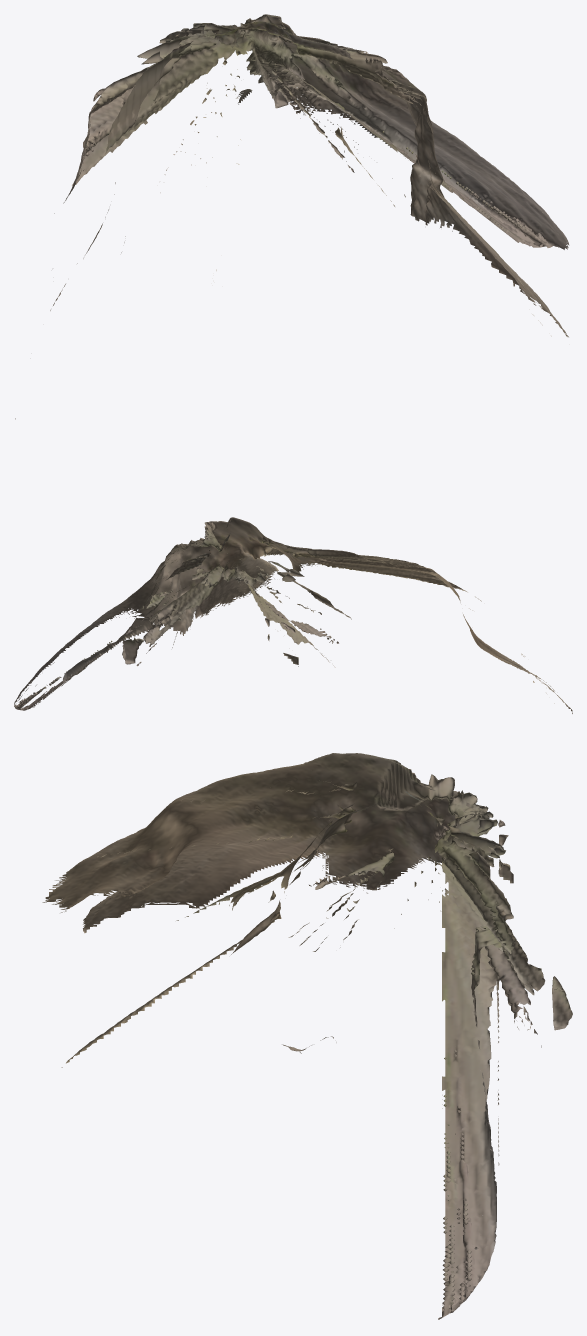
Rendered from lush-valley_collider.glb.
The picture shows the model from 3 angles, top to bottom: view 1: azimuth 30°, elevation 25°; view 2: azimuth 150°, elevation 25°; view 3: azimuth 270°, elevation 25°; orthographic projection. The views are drawn at different scales.
Visible parts, largest first — view 1: world; view 2: world; view 3: world.
Part boxes in pixels (x1,y1,x2,y2): world: (15, 14, 569, 419); world: (14, 517, 572, 713); world: (42, 753, 572, 1319).
Bounding box in the file's own units: 158 × 70.81 × 105.
